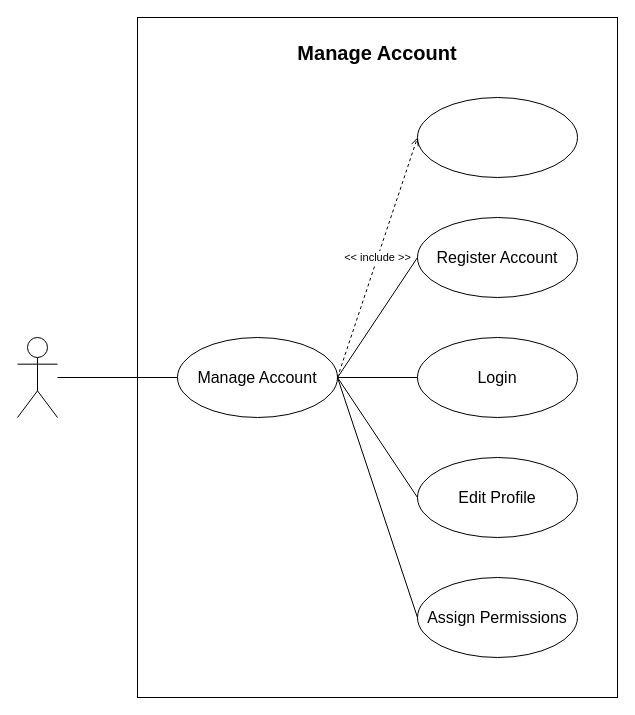
The diagram is 635 pixels wide and 715 high, and some of its shapes have lost their labels. Here are the shapes that lost their labels. From the top down, the centre of each, then its label:
At [497,137]: "Validate Credentials".
At [37,377]: "User".
